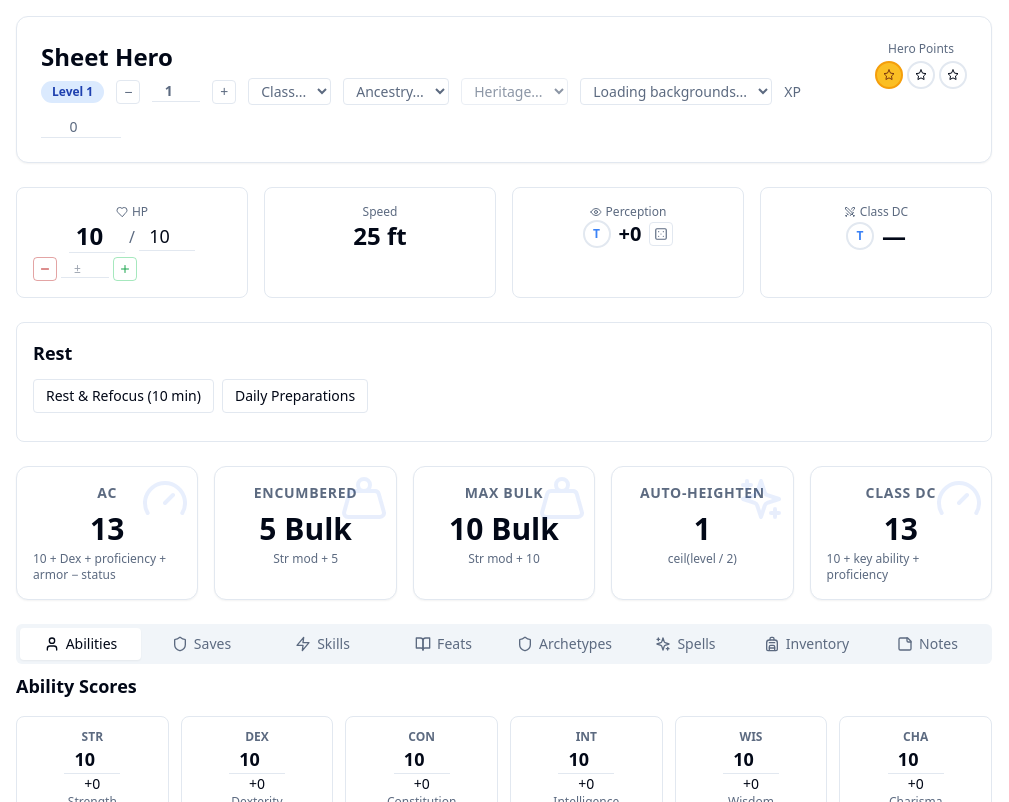
Scenario: System Sheets › warms archetypes and the spell catalog, with no PF2e browser tabs left
Step 1. Hover over the tab "Archetypes" → coordinates (564, 644), box [504, 628, 625, 660]
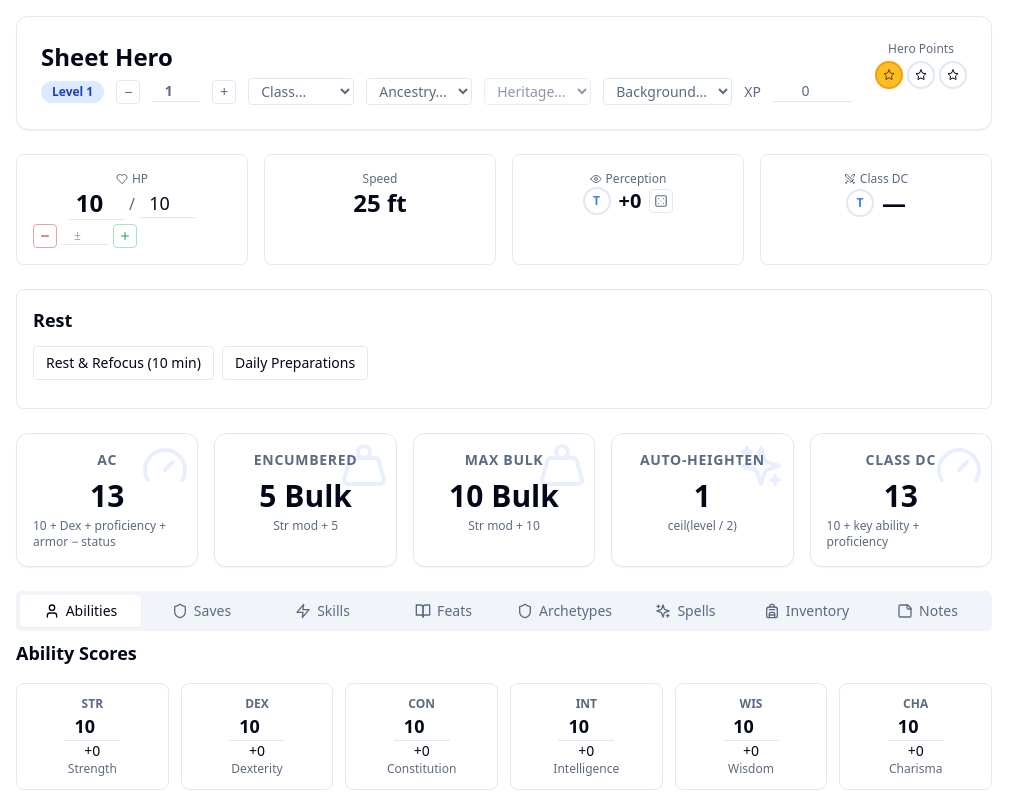
Step 2. Click the tab "Archetypes" → coordinates (564, 611), box [504, 595, 625, 627]
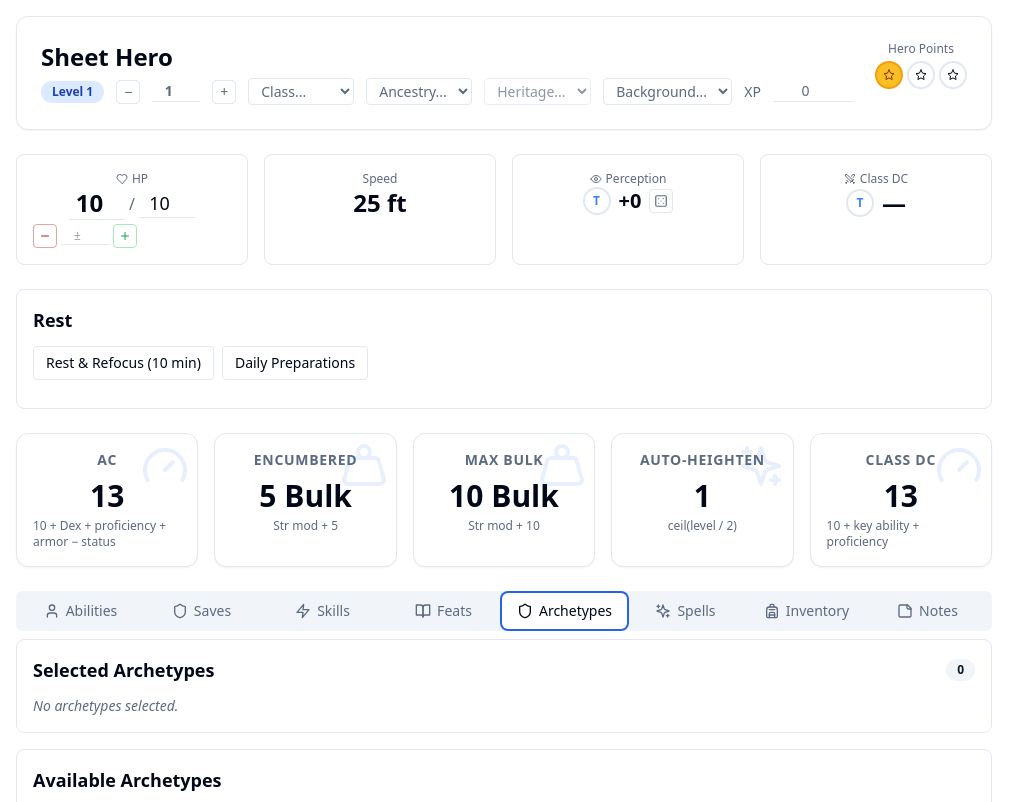
Step 3. Click the tab "Spells" → coordinates (686, 611), box [625, 595, 746, 627]
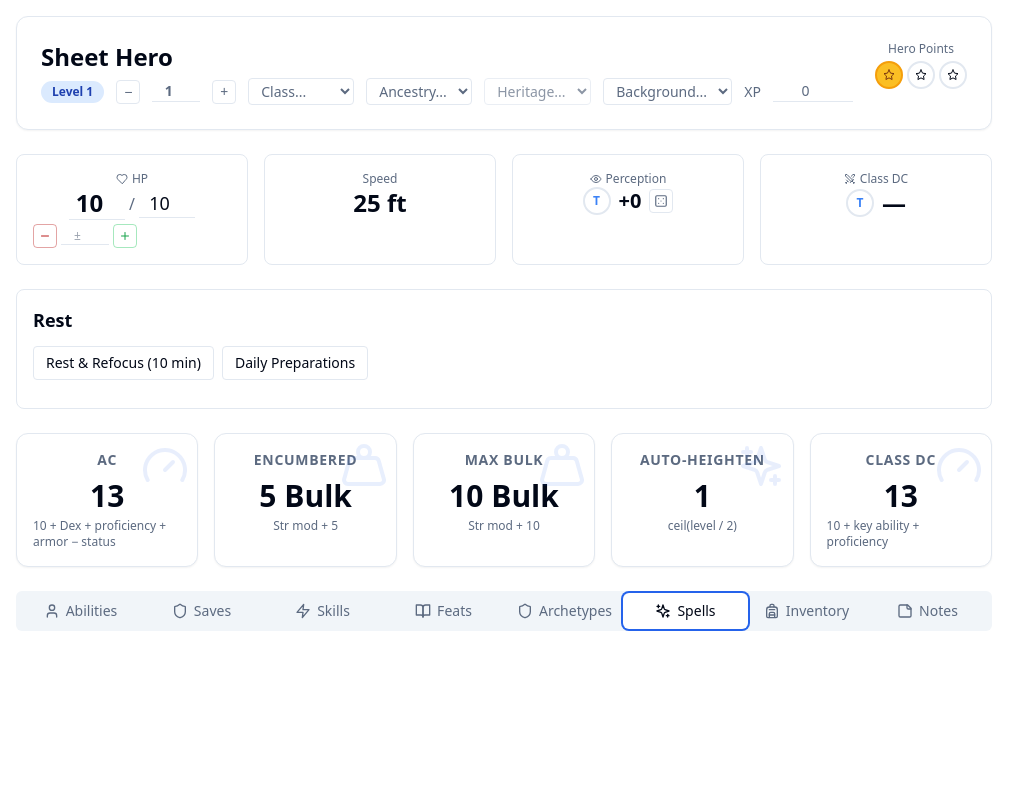
Now the tab "Spells" is selected, box [625, 595, 746, 627]
Step 4. Click the tab "Inventory" → coordinates (806, 611), box [746, 595, 867, 627]
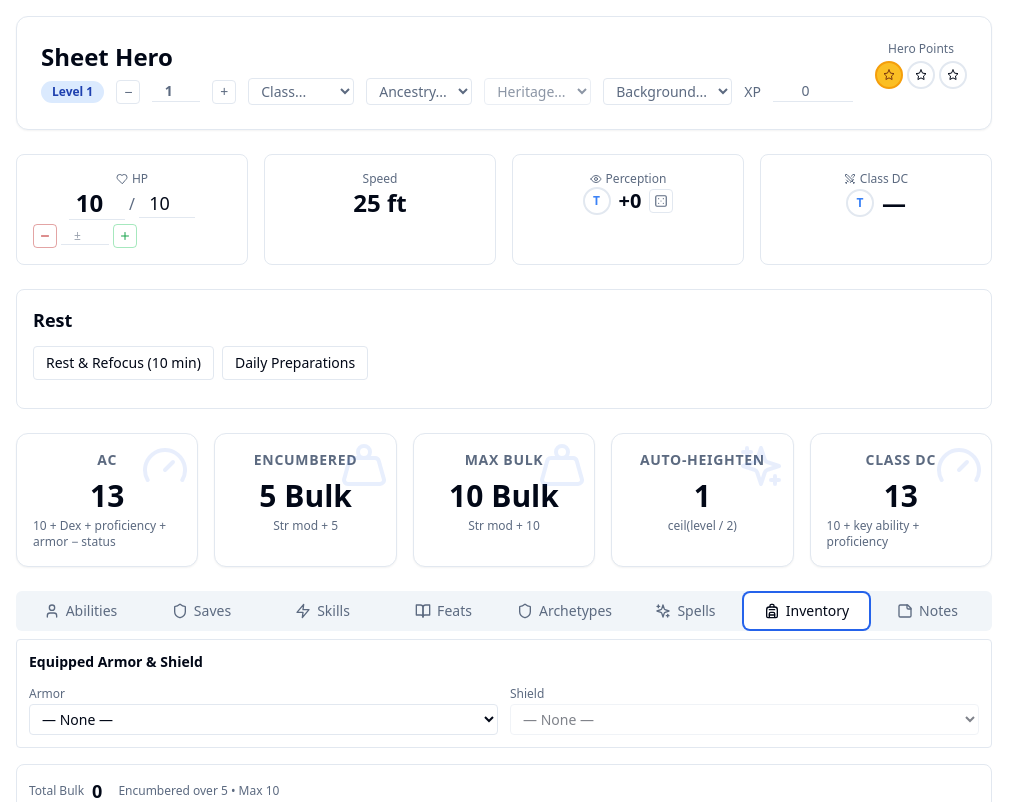
Now the heading "Equipped Armor & Shield" is shown, box [29, 652, 203, 671]
